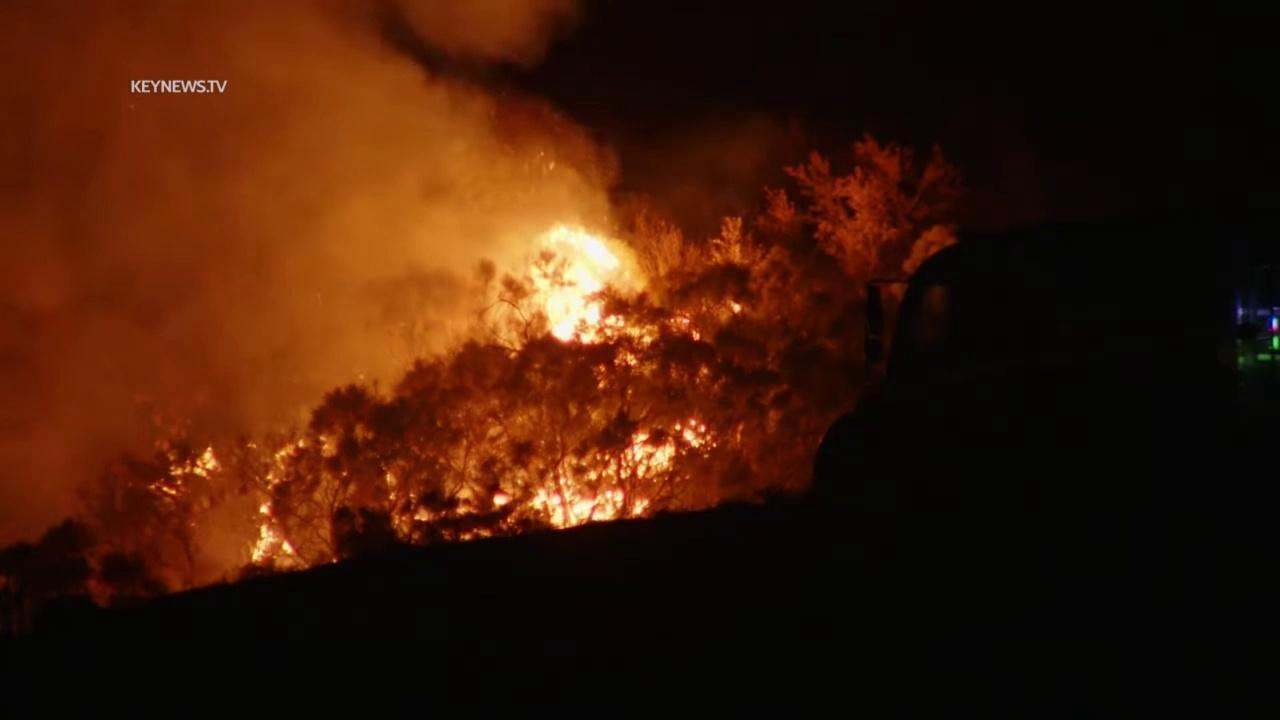fire: (490, 220, 720, 536), (248, 435, 312, 576), (146, 439, 226, 500), (315, 431, 341, 460), (730, 300, 744, 316)
smoke: (0, 0, 862, 632)
